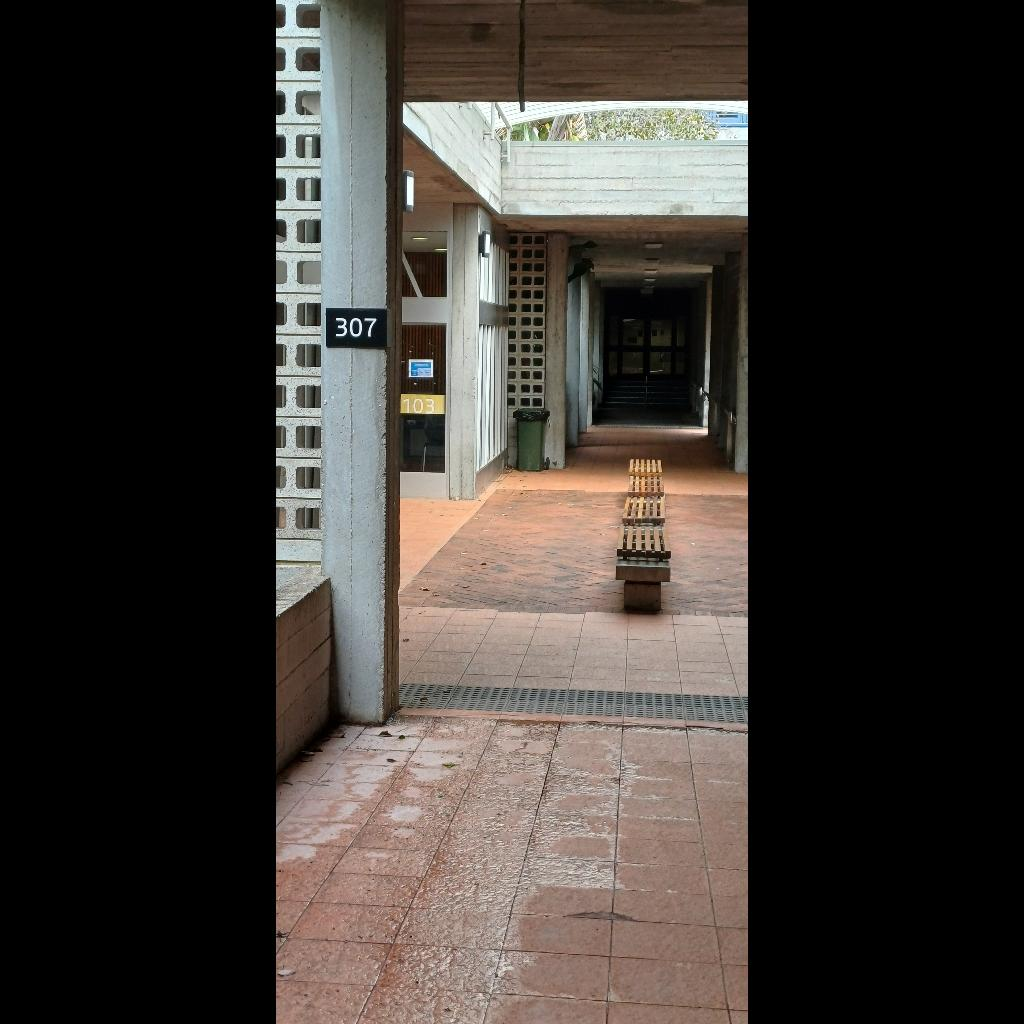BuildingCodes: (334, 316, 378, 342), (404, 396, 436, 412)
